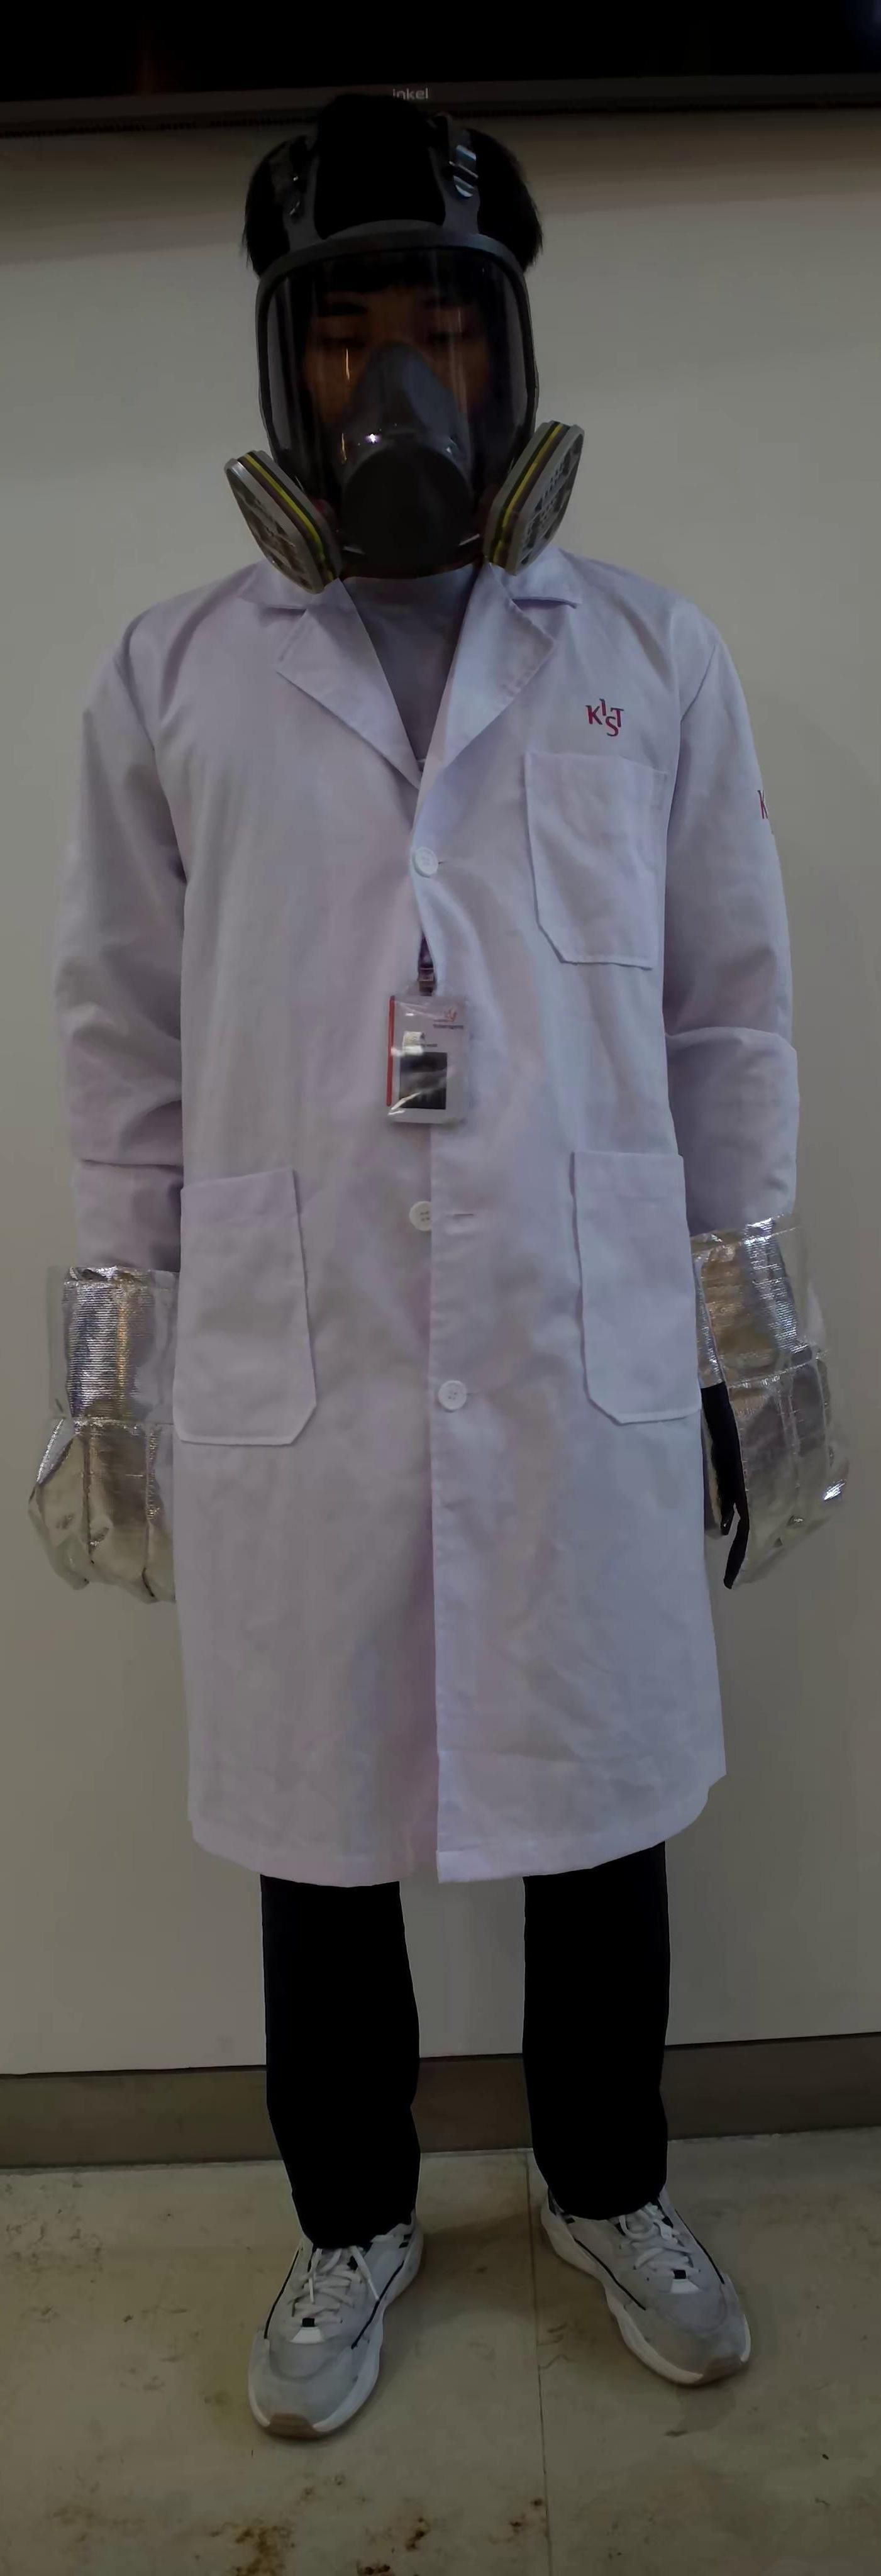lab_coat: (120, 655, 710, 1853)
